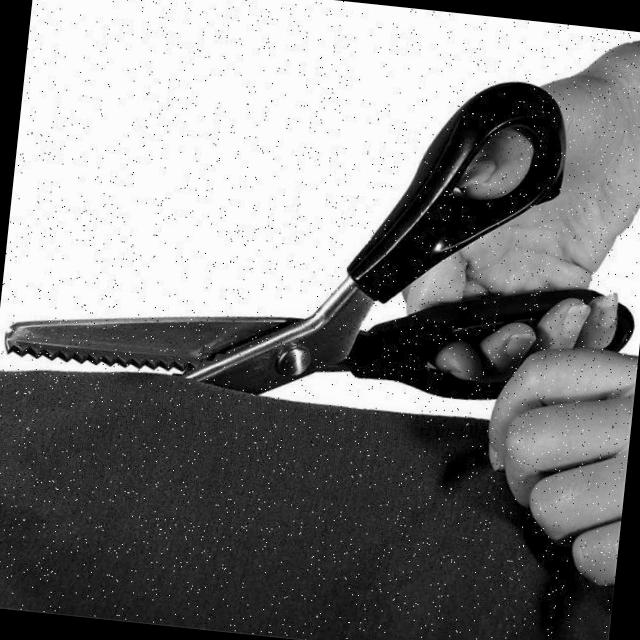scissors: (0, 24, 640, 538)
